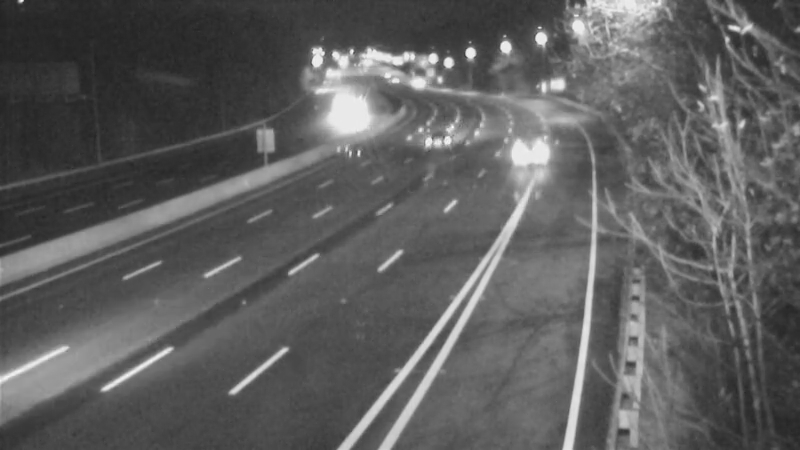vehicle: (386, 57, 436, 107), (507, 125, 557, 175), (412, 109, 462, 159), (325, 85, 375, 135)
